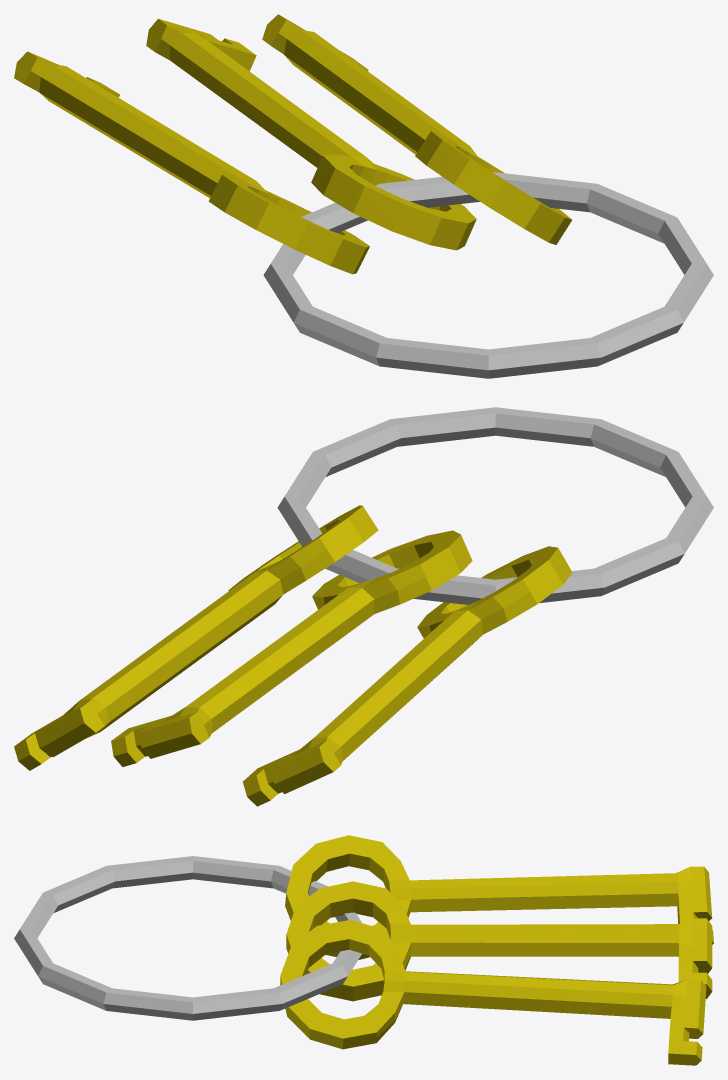
Rendered from Key_Set.fbx.
3 renders of one model, top to bottom at view 1: azimuth 30°, elevation 25°; view 2: azimuth 150°, elevation 25°; view 3: azimuth 270°, elevation 25°, orthographic. The views are drawn at different scales.
Visible parts, largest first — view 1: Key Set; view 2: Key Set; view 3: Key Set.
Part boxes in pixels (x1,y1,x2,y2): Key Set: [14, 14, 713, 378]; Key Set: [14, 407, 713, 806]; Key Set: [14, 835, 713, 1065].
Size of the model in its own units: 14.04 by 4.65 by 27.45.
